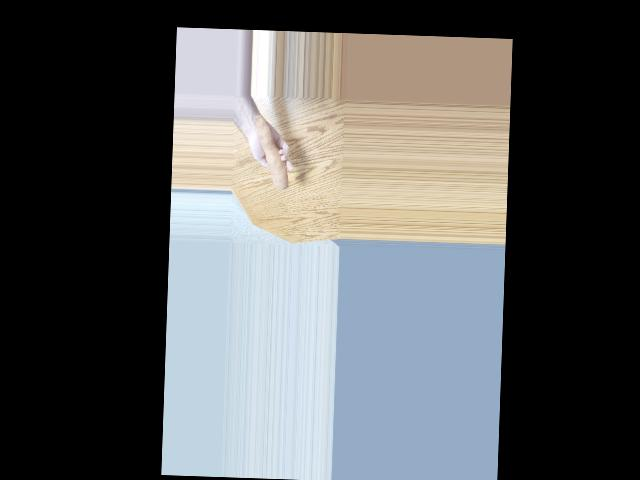sweet_potato: (251, 114, 285, 187)
